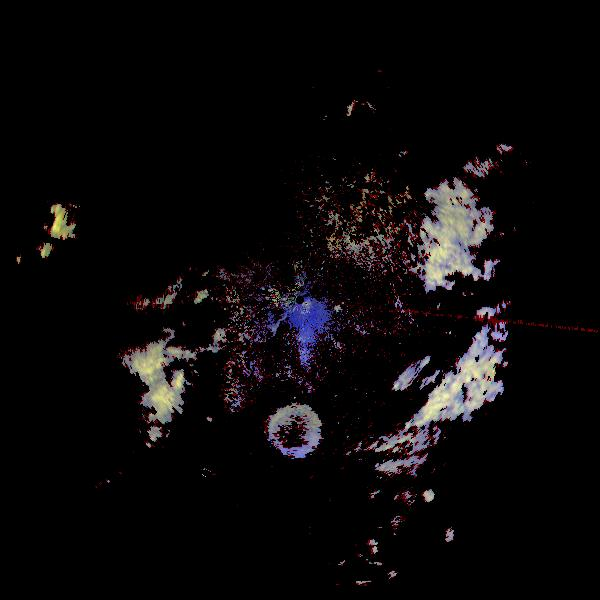roost: (263, 398, 329, 464)
